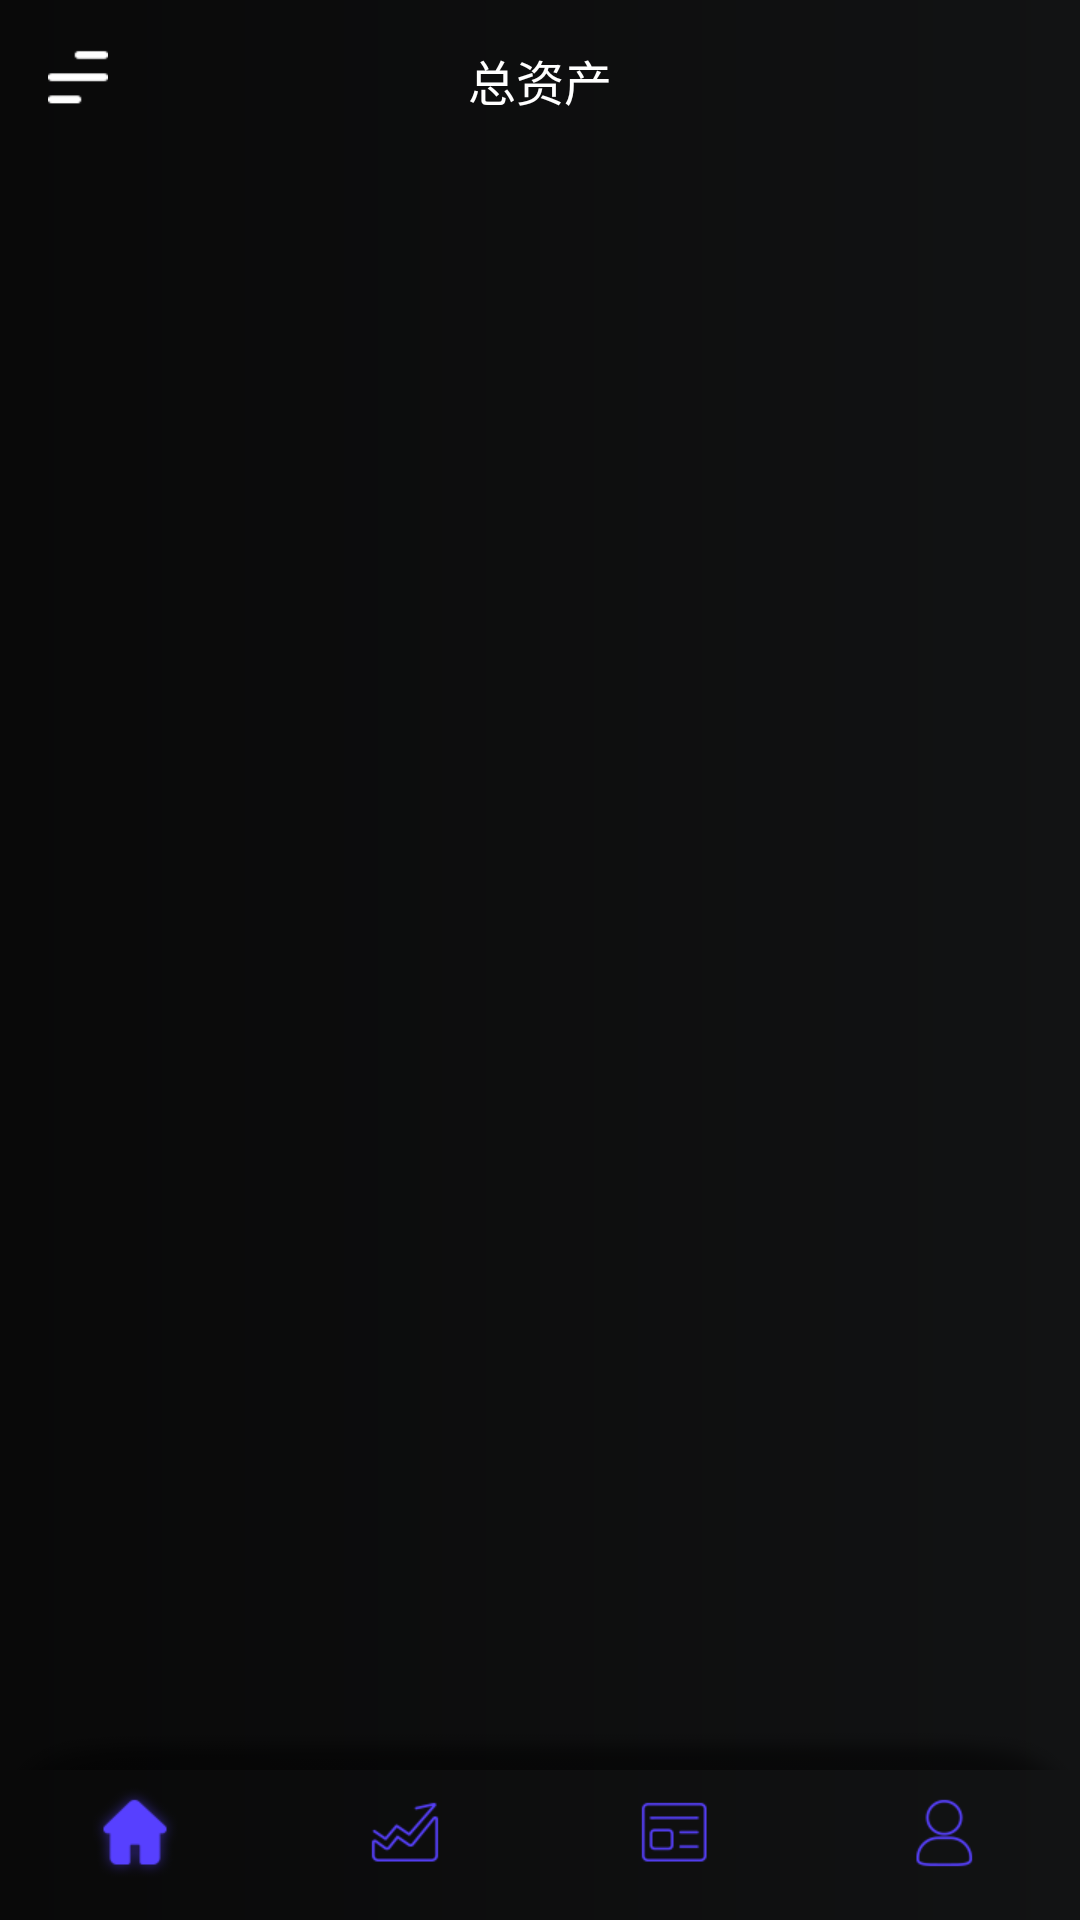

Named icons in this screenshot (1080px×1920px) and their centers, point (x, y):
menu: point (78, 77)
